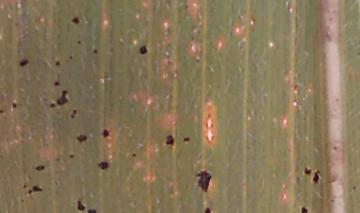tarspot: (195, 169, 213, 193), (56, 88, 70, 106), (311, 168, 321, 184), (164, 133, 175, 147), (17, 57, 30, 68), (96, 160, 109, 171), (137, 44, 148, 56), (75, 133, 87, 144), (75, 199, 86, 211), (30, 184, 43, 193), (70, 15, 80, 26), (101, 128, 110, 139), (303, 165, 311, 176), (51, 79, 60, 88), (299, 204, 308, 213), (35, 164, 45, 172), (182, 134, 190, 143), (10, 101, 18, 109), (203, 205, 211, 213), (53, 60, 62, 67), (331, 144, 338, 153), (292, 83, 298, 93), (327, 15, 334, 23), (86, 208, 97, 213), (26, 188, 33, 195), (329, 197, 336, 204), (92, 47, 98, 55), (75, 39, 83, 45), (351, 184, 357, 192), (354, 1, 360, 9), (67, 54, 73, 61), (49, 102, 55, 109), (68, 153, 75, 159), (71, 108, 77, 114), (54, 156, 60, 162), (131, 151, 137, 157), (19, 198, 25, 204), (69, 114, 75, 119), (1, 108, 5, 115), (22, 183, 26, 189)
